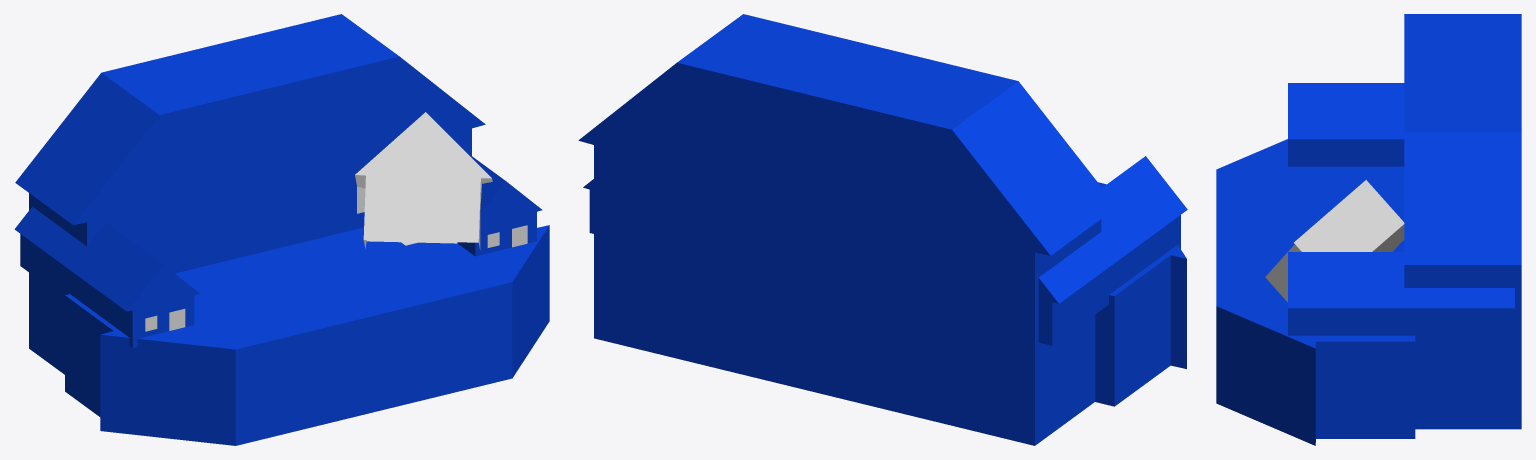
Rendered from Couch.fbx.
The picture shows the model from 3 angles, left to right: view 1: azimuth 30°, elevation 25°; view 2: azimuth 150°, elevation 25°; view 3: azimuth 270°, elevation 25°; orthographic projection. The views are drawn at different scales.
Parts seen in each view (by area): view 1: Cube.221, Cube.241; view 2: Cube.221; view 3: Cube.221, Cube.241.
Part boxes in pixels (box(x1,y1,x2,y2)): Cube.221: box(14, 14, 549, 445); Cube.241: box(355, 112, 492, 249); Cube.221: box(578, 14, 1187, 445); Cube.221: box(1216, 14, 1521, 445); Cube.241: box(1265, 180, 1404, 302).
Bounding box in the file's own units: 646 × 356 × 377.
